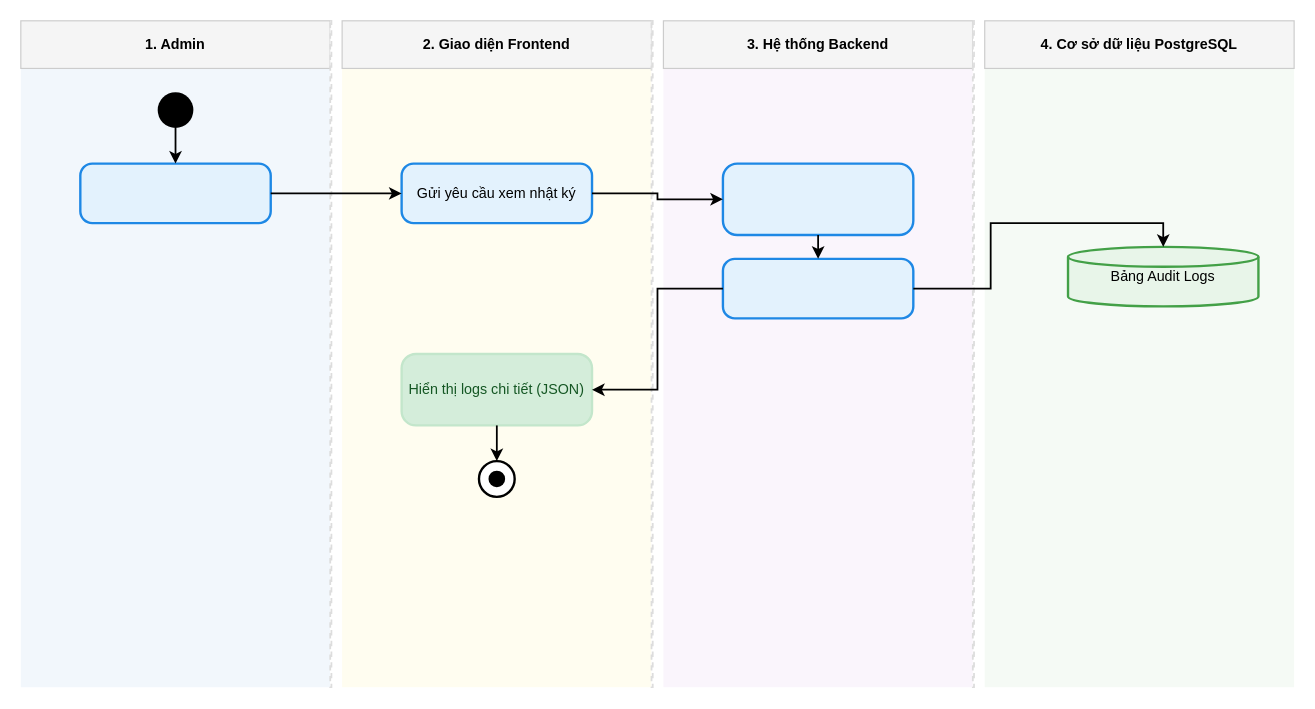
This 1315x709 diagram has some shape labels left out. Each missing label, with the box of its shape:
Kiểm tra quyền ADMIN. Ghi đè branchId = 1 (Chi nhánh Tổng): (721, 162, 914, 236)
Mở module Nhật ký hoạt động: (79, 162, 271, 224)
Truy vấn logs thuộc chi nhánh 1: (721, 257, 914, 319)
